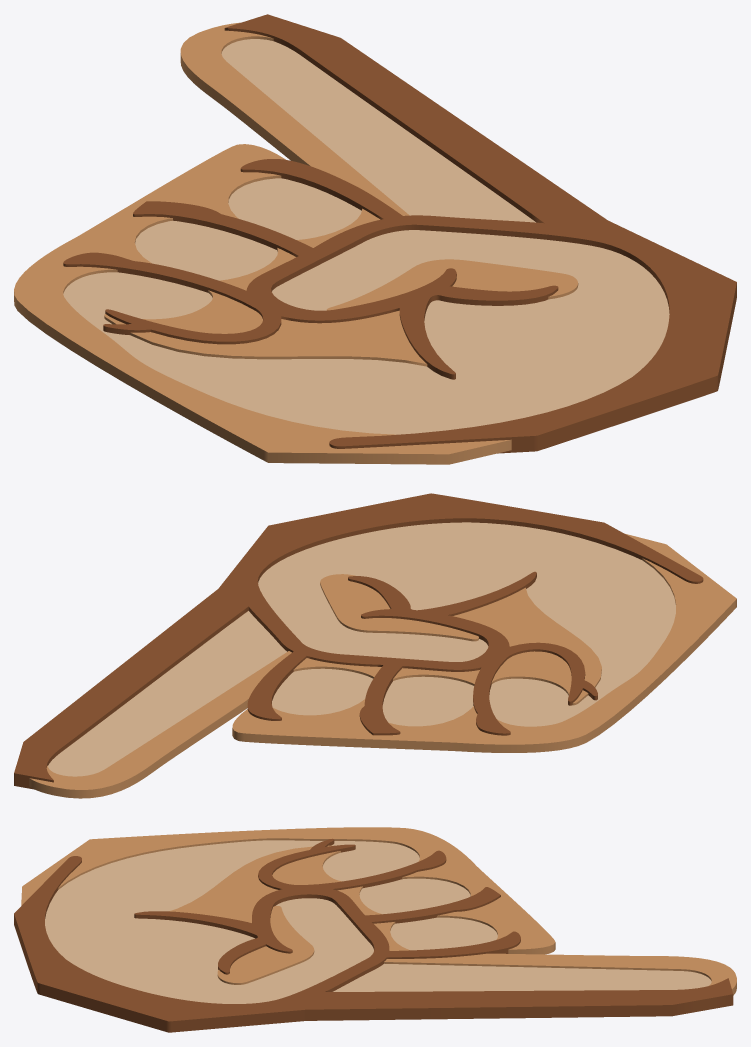
File: emoji_u261d_1f3fc.glb
3 renders of one model, top to bottom at view 1: azimuth 30°, elevation 25°; view 2: azimuth 150°, elevation 25°; view 3: azimuth 270°, elevation 25°, orthographic. The views are drawn at different scales.
Visible parts, largest first — view 1: emoji_u261d_1f3fc; view 2: emoji_u261d_1f3fc; view 3: emoji_u261d_1f3fc.
Boxes of the visible parts, bbox=[...] form: emoji_u261d_1f3fc: bbox=[14, 14, 736, 464]; emoji_u261d_1f3fc: bbox=[14, 493, 736, 798]; emoji_u261d_1f3fc: bbox=[14, 827, 736, 1032].
Size of the model in its own units: 0.0224 by 0.0006 by 0.035.
